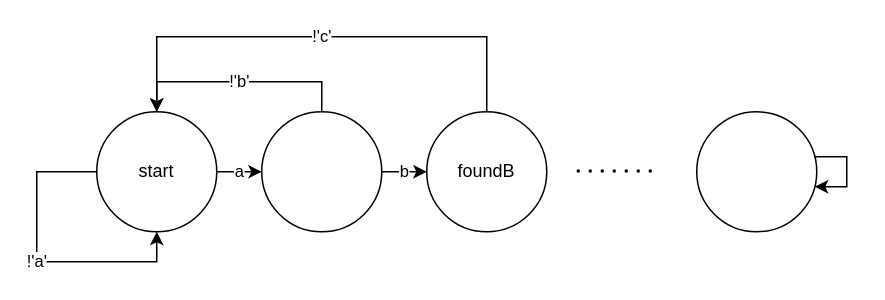
Image size: 885x300. Some labels were removed from this diagram. Here are the shapes that lost their labels. From the top down, the centre of each, then its label:
point 321,171: foundA
point 756,171: end
